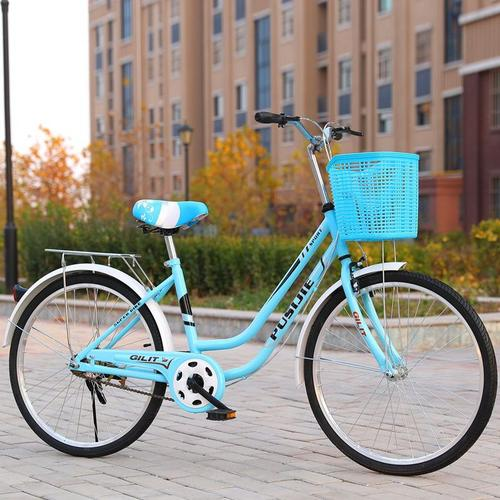单车: (4, 105, 500, 481)
